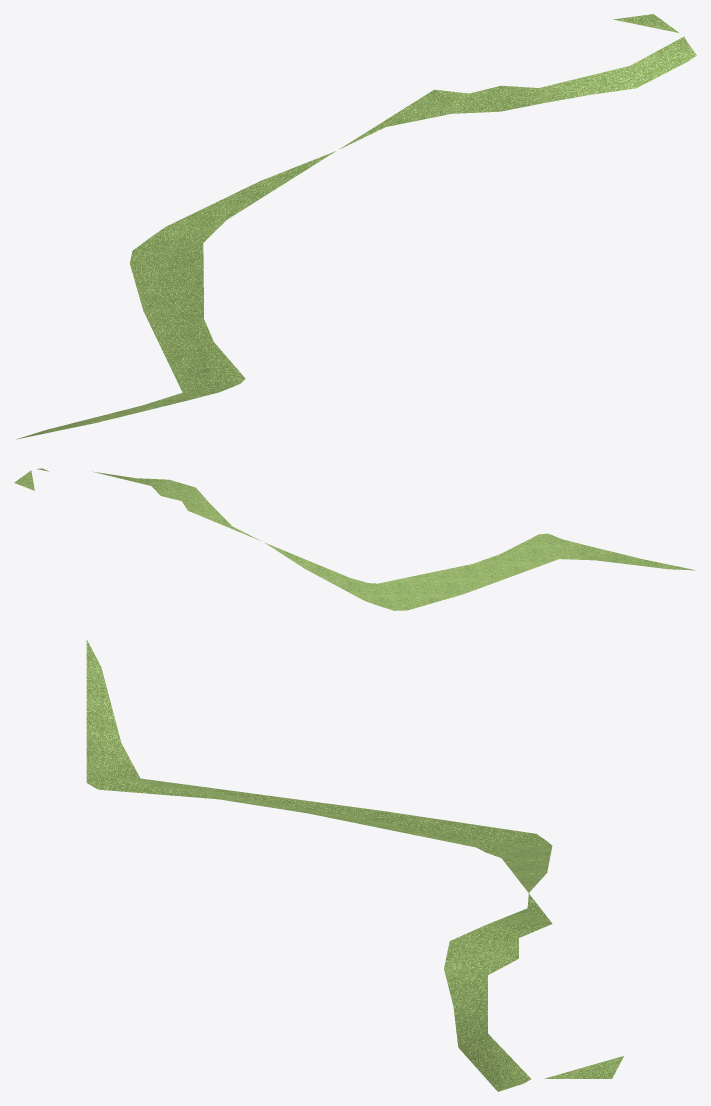
File: kd_stage_135fe0_0_14_bounded.glb
The picture shows the model from 3 angles, top to bottom: view 1: azimuth 30°, elevation 25°; view 2: azimuth 150°, elevation 25°; view 3: azimuth 270°, elevation 25°; orthographic projection. The views are drawn at different scales.
Visible parts, largest first — view 1: kd_stage_135fe0_0_14_bounded; view 2: kd_stage_135fe0_0_14_bounded; view 3: kd_stage_135fe0_0_14_bounded.
Part boxes in pixels (x1,y1,x2,y2): kd_stage_135fe0_0_14_bounded: [16, 14, 696, 439]; kd_stage_135fe0_0_14_bounded: [14, 468, 695, 610]; kd_stage_135fe0_0_14_bounded: [86, 639, 623, 1091].
Size of the model in its own units: 70.71 by 7.13 by 29.84.
Materials: 1 (1 with a texture image).
